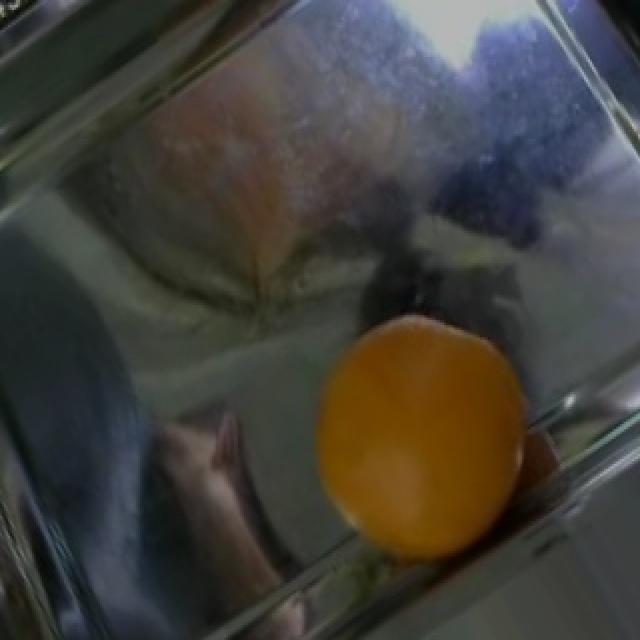Fruit: (294, 298, 556, 583), (108, 394, 298, 635)
